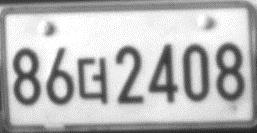0: (181, 42, 210, 101)
2: (113, 44, 144, 105)
4: (146, 43, 179, 103)
6: (45, 46, 75, 105)
8: (214, 42, 245, 101), (11, 48, 41, 105)
더: (76, 55, 109, 105)
